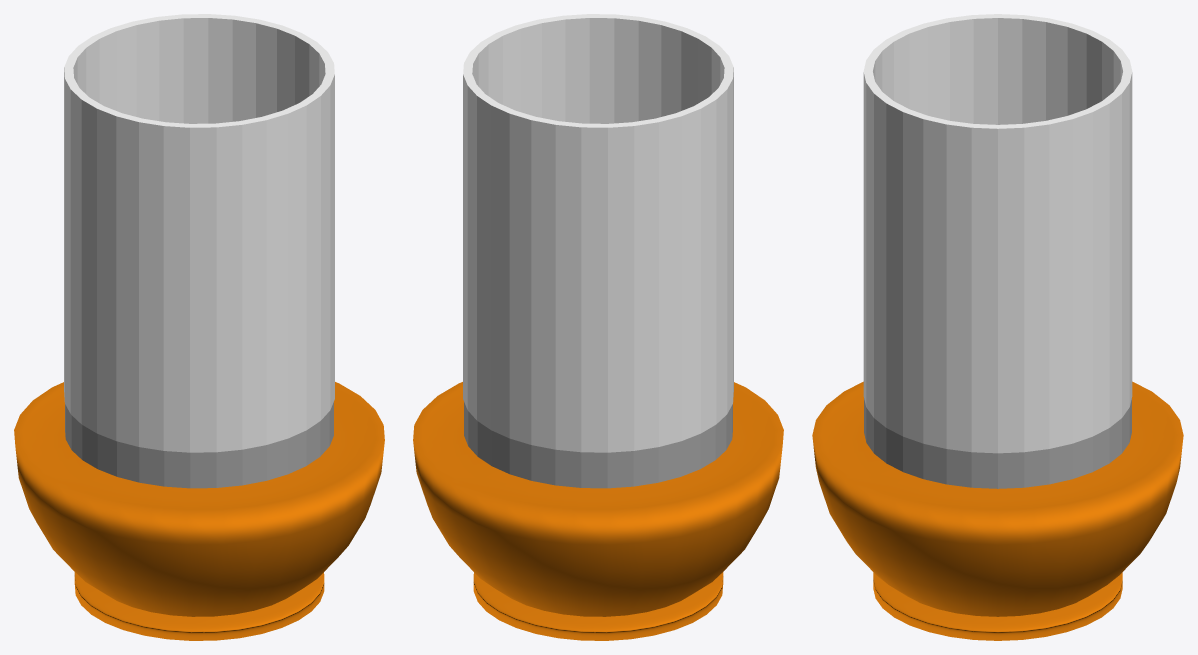
Rendered from MeasuringCups.fbx.
3 renders of one model, left to right at view 1: azimuth 30°, elevation 25°; view 2: azimuth 150°, elevation 25°; view 3: azimuth 270°, elevation 25°, orthographic.
Parts seen in each view (by area): view 1: Мерный стакан без мер.002, Калориметр.001, Мерный стакан без мер.001, Цилиндр.004; view 2: Мерный стакан без мер.001, Калориметр.001, Мерный стакан без мер.002, Цилиндр.004; view 3: Мерный стакан без мер.001, Мерный стакан без мер.002, Калориметр.001, Цилиндр.004.
Part boxes in pixels (box(x1,y1,x2,y2)): Мерный стакан без мер.002: box(81, 42, 334, 452); Калориметр.001: box(14, 382, 384, 640); Мерный стакан без мер.001: box(64, 14, 316, 423); Цилиндр.004: box(65, 402, 333, 488); Мерный стакан без мер.001: box(463, 42, 716, 452); Калориметр.001: box(413, 382, 783, 640); Мерный стакан без мер.002: box(481, 14, 733, 423); Цилиндр.004: box(464, 402, 732, 488); Мерный стакан без мер.001: box(998, 14, 1132, 453); Мерный стакан без мер.002: box(863, 14, 997, 453); Калориметр.001: box(812, 381, 1183, 640); Цилиндр.004: box(864, 398, 1131, 488).
Size of the model in its own units: 2 by 3.07 by 2.
Materials: 3 (1 with a texture image).
